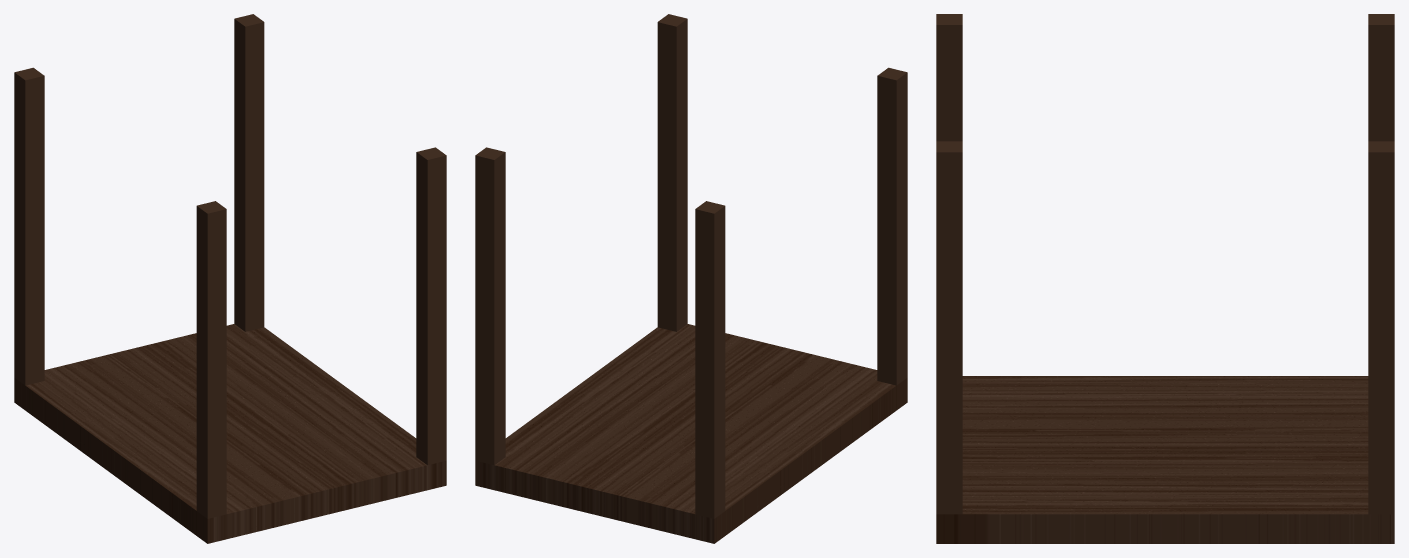
3 renders of one model, left to right at view 1: azimuth 30°, elevation 25°; view 2: azimuth 150°, elevation 25°; view 3: azimuth 270°, elevation 25°, orthographic. The views are drawn at different scales.
Visible parts, largest first — view 1: box_2_3_3; view 2: box_2_3_3; view 3: box_2_3_3.
Part boxes in pixels (x1,y1,x2,y2): box_2_3_3: (14, 14, 446, 543); box_2_3_3: (475, 14, 907, 543); box_2_3_3: (936, 14, 1394, 543).
Bounding box in the file's own units: 0.1 × 0.132 × 0.14.
2 materials, 1 textured.
